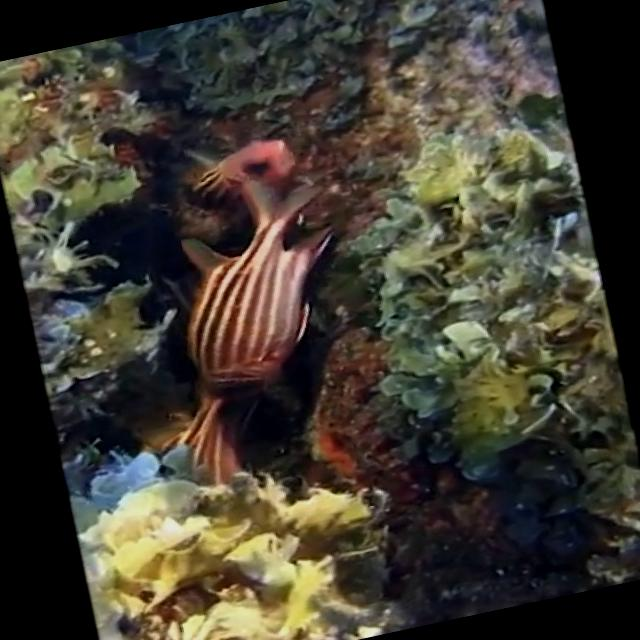Asker Baligi: (103, 124, 386, 498)
